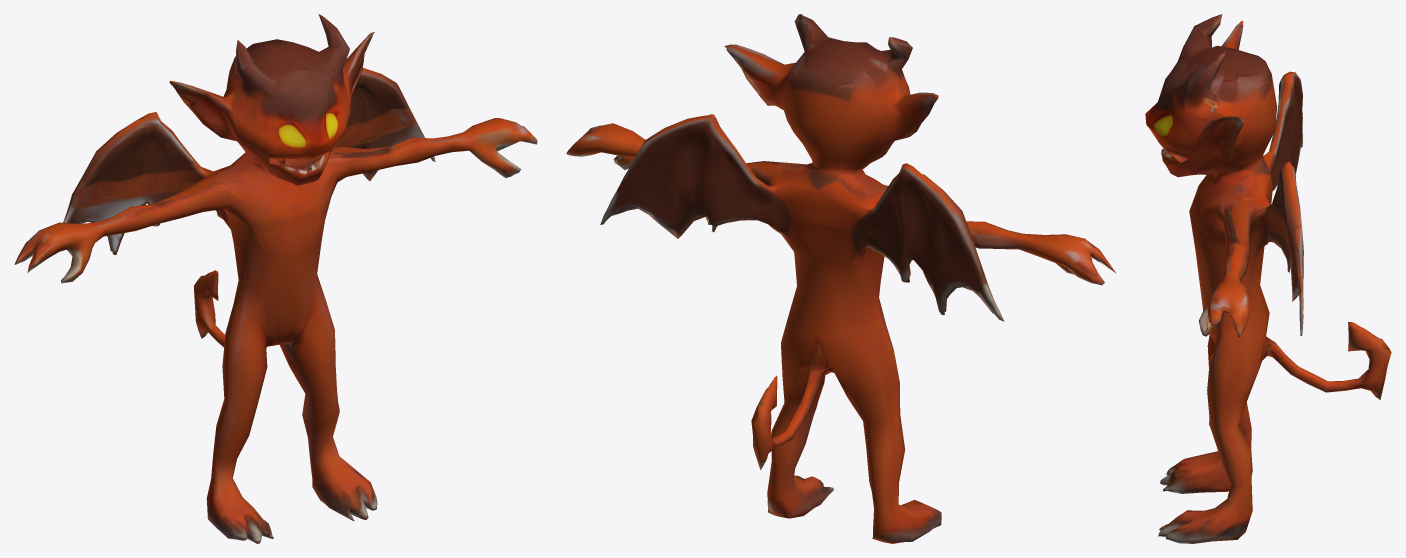
Rendered from imp_backup.glb.
3 views of the same model, side by side, from view 1: azimuth 30°, elevation 25°; view 2: azimuth 150°, elevation 25°; view 3: azimuth 270°, elevation 25° (orthographic). The views are drawn at different scales.
Size of the model in its own units: 1.97 by 1.77 by 0.8214.
1 material, 1 textured.
